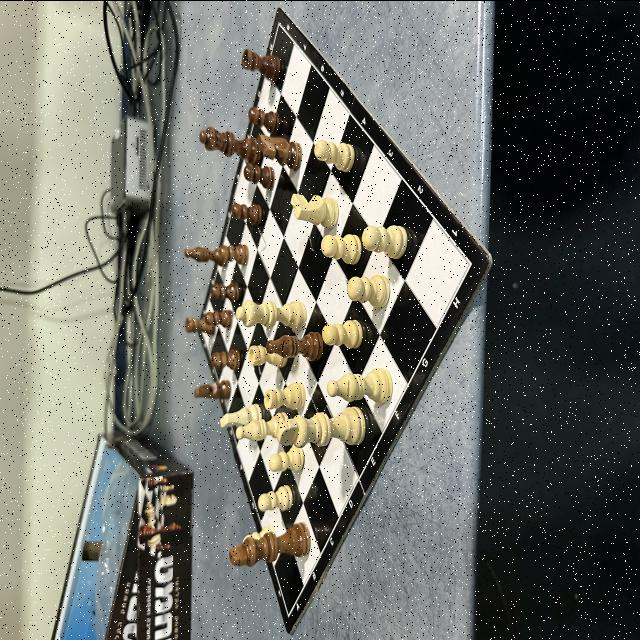Black-Bishop: (266, 330, 322, 360), (183, 247, 225, 266)
Black-King: (228, 521, 310, 565)
Black-Knight: (256, 132, 302, 168), (194, 381, 230, 398)
Black-Pawn: (248, 106, 280, 130), (243, 164, 273, 188), (218, 243, 248, 266), (232, 202, 262, 225), (212, 350, 240, 368), (211, 283, 239, 300), (205, 309, 232, 326)
Black-Queen: (200, 127, 258, 163)
Black-Rook: (240, 48, 280, 80), (186, 317, 213, 333)
White-Bishop: (327, 366, 392, 404), (236, 412, 288, 440)
White-King: (276, 406, 366, 448)
White-Knight: (290, 192, 340, 228), (220, 403, 262, 425)
White-Pawn: (361, 225, 406, 258), (346, 274, 390, 306), (315, 140, 355, 171), (320, 235, 360, 263), (322, 320, 362, 348), (258, 485, 293, 509), (269, 446, 305, 469), (242, 526, 274, 540)
White-Queen: (236, 300, 306, 330)
White-Rook: (263, 380, 304, 409), (248, 345, 286, 366)
